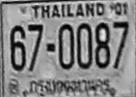0: (76, 22, 92, 68), (58, 23, 74, 68)
6: (9, 24, 25, 70)
7: (112, 20, 128, 68), (27, 23, 42, 68)
8: (94, 22, 109, 67)
BKK: (27, 77, 113, 95)
